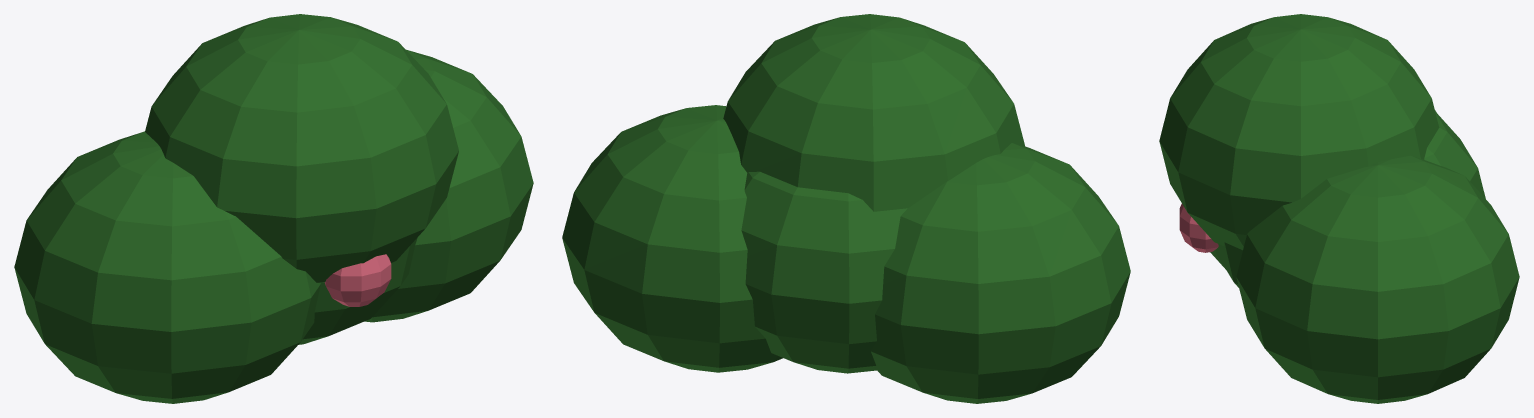
File: Bush_Flowering.obj
3 views of the same model, side by side, from view 1: azimuth 30°, elevation 25°; view 2: azimuth 150°, elevation 25°; view 3: azimuth 270°, elevation 25° (orthographic). The views are drawn at different scales.
Visible parts, largest first — view 1: LeafClump, Flower; view 2: LeafClump; view 3: LeafClump, Flower.
Boxes of the visible parts, box(x1,y1,x2,y2) form: LeafClump: box(14, 14, 533, 403); Flower: box(324, 254, 391, 306); LeafClump: box(562, 14, 1130, 403); LeafClump: box(1159, 14, 1519, 403); Flower: box(1179, 203, 1218, 252).
Bounding box in the file's own units: 1.76 × 1.1 × 1.17.
